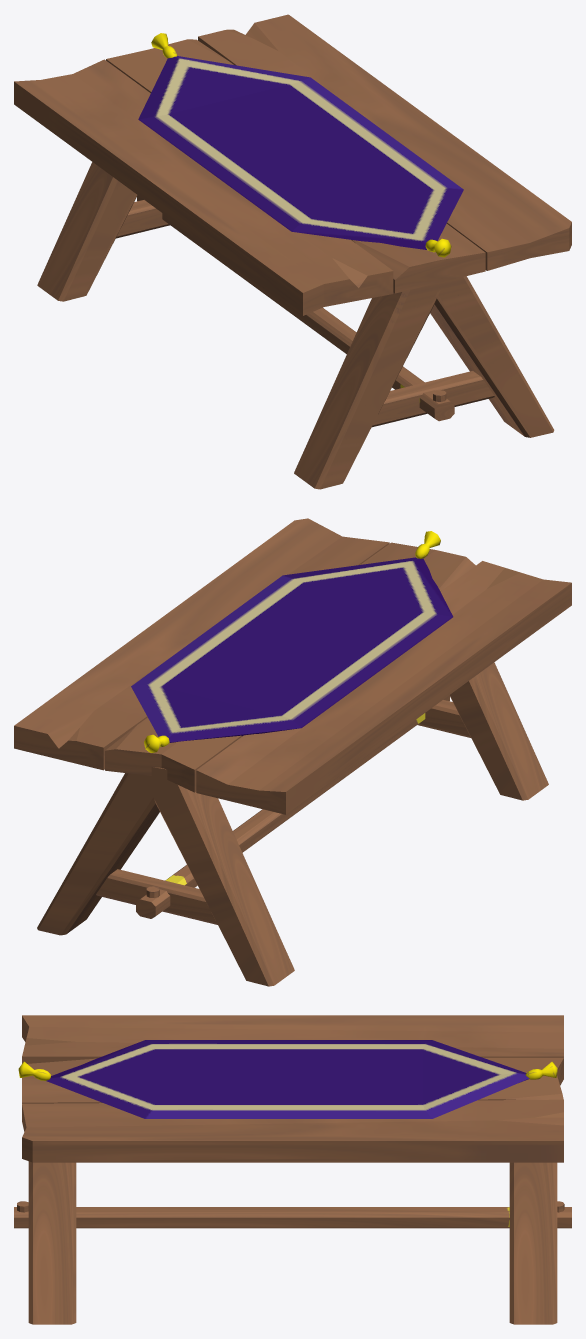
File: masa.fbx
3 renders of one model, top to bottom at view 1: azimuth 30°, elevation 25°; view 2: azimuth 150°, elevation 25°; view 3: azimuth 270°, elevation 25°, orthographic. The views are drawn at different scales.
Parts seen in each view (by area): view 1: Cylinder.010; view 2: Cylinder.010; view 3: Cylinder.010.
Part boxes in pixels (x1=…): Cylinder.010: x1=14, y1=14, x2=571, y2=489; Cylinder.010: x1=14, y1=518, x2=571, y2=986; Cylinder.010: x1=14, y1=1015, x2=571, y2=1324.
Bounding box in the file's own units: 190 × 148 × 357.
1 material, 1 textured.
